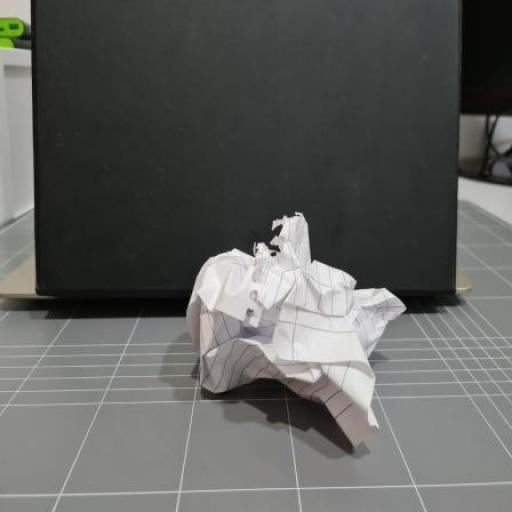paper: (150, 150, 453, 480)
